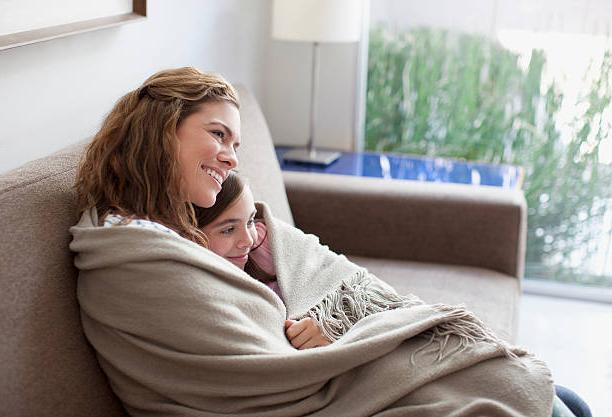blanket: (67, 198, 560, 417)
